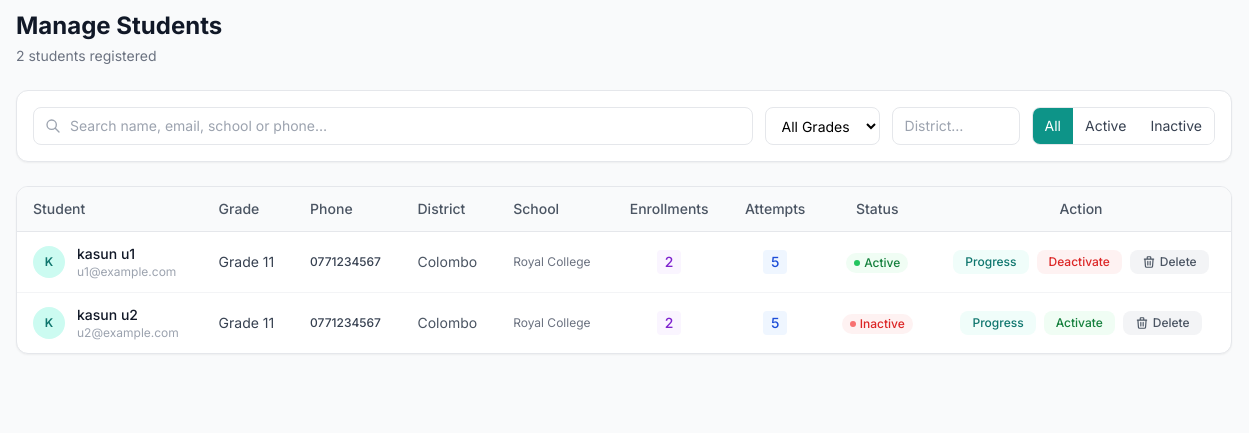
Test case: Manage students › shows a failed delete
What coordinates should you click on to do the following:
click the button titled "Permanently Delete" in the row of "kasun u1"
I would click on:
 (1169, 262)
Its box is top-left (1130, 250), bottom-right (1209, 274).
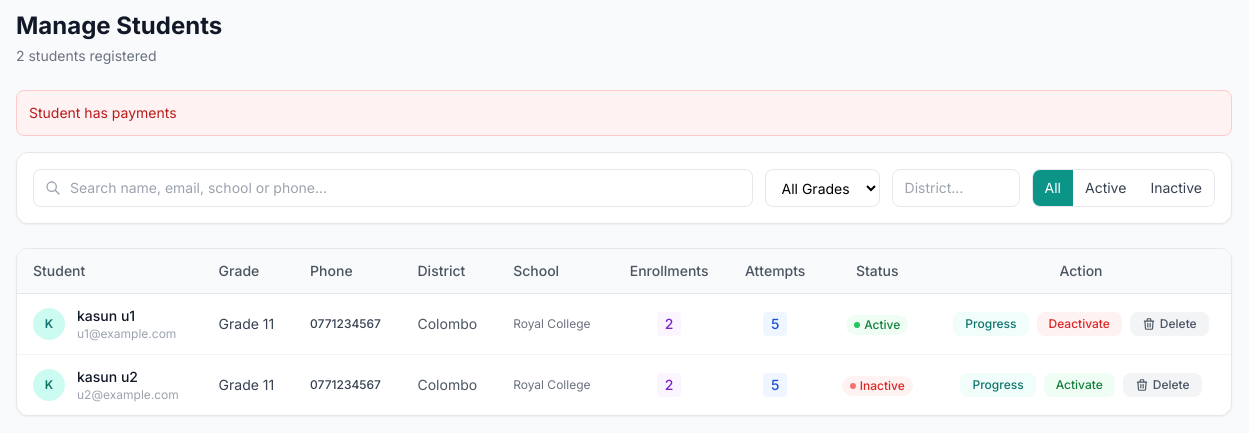
Expected: the text "kasun u1" is shown, top-left (77, 307), bottom-right (135, 324)
Expected: the text "Student has payments" is shown, top-left (16, 90), bottom-right (1232, 136)
